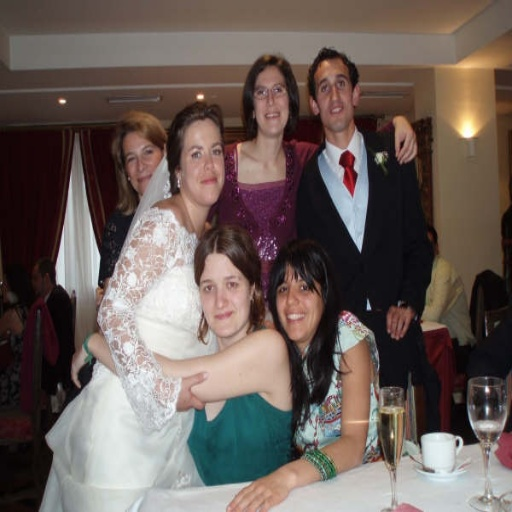hand: (223, 466, 290, 510), (161, 368, 209, 410), (395, 108, 425, 168), (69, 332, 98, 389), (384, 302, 418, 342)
